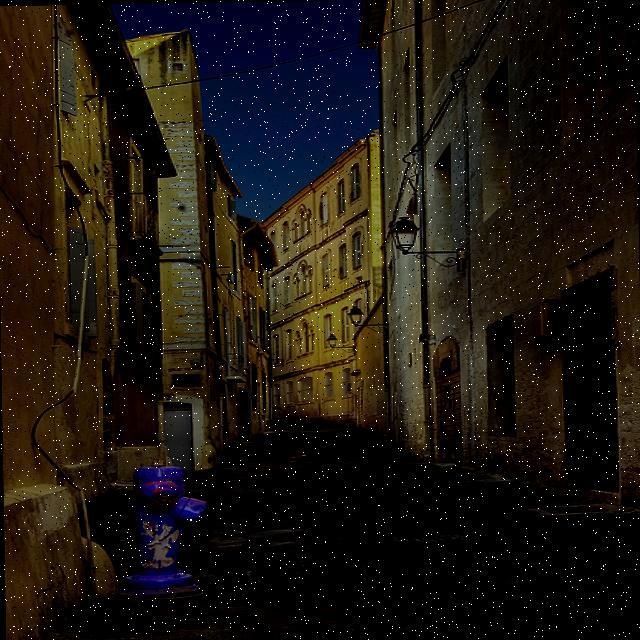fire_hydrant: (125, 463, 210, 589)
